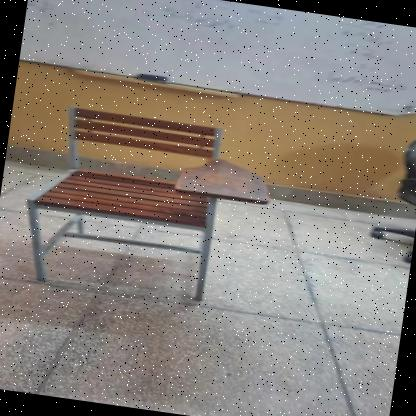chair: (6, 94, 280, 316)
